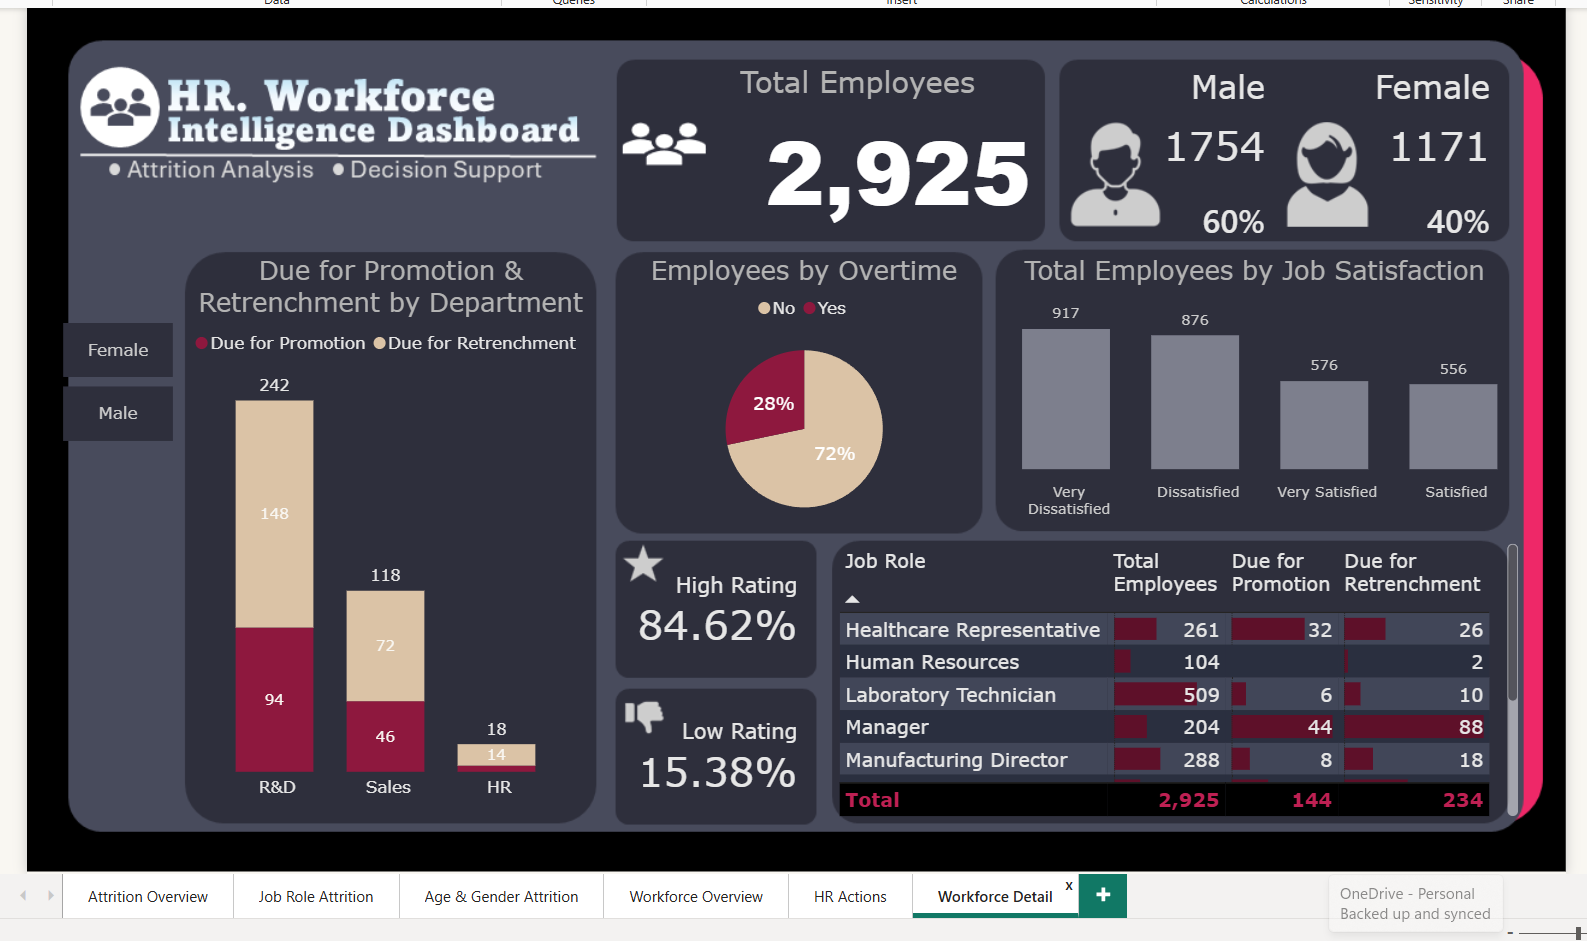

This screenshot's page, from the dashboard's own definition file:
{"tool":"powerbi","page":{"name":"Workforce Detail","canvas":[1280,720],"ordinal":5},"visuals":[{"type":"card","fields":{"Values":["Dax_Measures.Total Employees"]},"box":[604.2,67.8,241.7,128.2],"z":0},{"type":"textbox","box":[535.2,46.9,310.8,30.8],"z":1000},{"type":"advancedSlicerVisual","fields":{"Values":["HR Master Data.Gender"]},"box":[30,261.9,91.5,98.7],"z":2000},{"type":"cardVisual","fields":{"Data":["Dax_Measures.Male","Dax_Measures.Female"]},"box":[858.6,41.8,374.8,153.8],"z":3000},{"type":"columnChart","fields":{"Category":["HR Master Data.Job Satisfaction Status"],"Y":["Dax_Measures.Total Employees"]},"box":[807.8,234.9,425.5,196.6],"z":4000},{"type":"pieChart","fields":{"Category":["HR Master Data.Over Time"],"Y":["Dax_Measures.Total Employees"]},"box":[491.4,233.7,309.2,201.3],"z":5000},{"type":"tableEx","fields":{"Values":["HR Master Data.Job Role","Dax_Measures.Total Employees","Dax_Measures.Due for Promotion","Dax_Measures.Next Retrenchment"]},"box":[669.3,440.6,575.8,235.9],"z":6000},{"type":"cardVisual","fields":{"Data":["Dax_Measures.High %"]},"box":[491.6,446.9,165.2,107],"z":7000},{"type":"cardVisual","fields":{"Data":["Dax_Measures.Low %"]},"box":[491.6,568.5,165.2,108.1],"z":8000},{"type":"columnChart","fields":{"Category":["HR Master Data.Department"],"Y":["Dax_Measures.Due for Promotion","Dax_Measures.Next Retrenchment"]},"box":[121,262.5,359.6,414.7],"z":9000},{"type":"textbox","box":[491.6,204.7,308.7,30.1],"z":10000},{"type":"textbox","box":[807.5,204.7,426.1,30.1],"z":11000},{"type":"textbox","box":[134.1,204.7,336.7,57.2],"z":12000}]}

Visuals, with their boxes on the page's 1280x720 design canvas (x1, y1, x2, y2). These are canvas units, not pixel positions in the 1587x941 screenshot, which may show the page scaled, cropped or inside an application window:
card - Dax_Measures.Total Employees: [x1=604, y1=68, x2=846, y2=196]
textbox: [x1=535, y1=47, x2=846, y2=78]
advancedSlicerVisual - HR Master Data.Gender: [x1=30, y1=262, x2=122, y2=361]
cardVisual - Dax_Measures.Male x Dax_Measures.Female: [x1=859, y1=42, x2=1233, y2=196]
columnChart - HR Master Data.Job Satisfaction Status x Dax_Measures.Total Employees: [x1=808, y1=235, x2=1233, y2=432]
pieChart - HR Master Data.Over Time x Dax_Measures.Total Employees: [x1=491, y1=234, x2=801, y2=435]
tableEx - HR Master Data.Job Role x Dax_Measures.Total Employees: [x1=669, y1=441, x2=1245, y2=676]
cardVisual - Dax_Measures.High %: [x1=492, y1=447, x2=657, y2=554]
cardVisual - Dax_Measures.Low %: [x1=492, y1=568, x2=657, y2=677]
columnChart - HR Master Data.Department x Dax_Measures.Due for Promotion: [x1=121, y1=262, x2=481, y2=677]
textbox: [x1=492, y1=205, x2=800, y2=235]
textbox: [x1=808, y1=205, x2=1234, y2=235]
textbox: [x1=134, y1=205, x2=471, y2=262]
